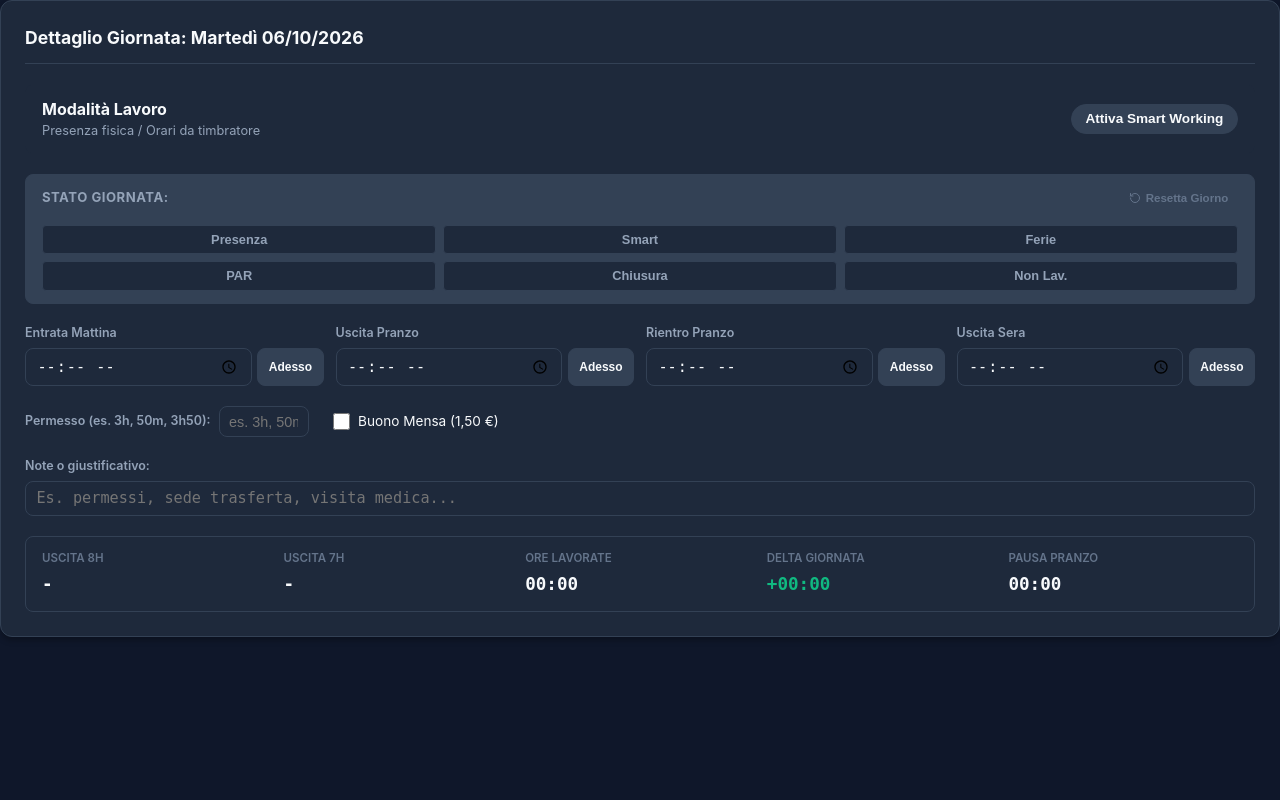
it: DayDetailCard Feature › entering morningIn dynamically calculates expected exits 8h and 7h
Type "09:00" into the time field with test id "input-morningIn".
click(138, 367); type("09:00")  # box [25, 348, 252, 386]
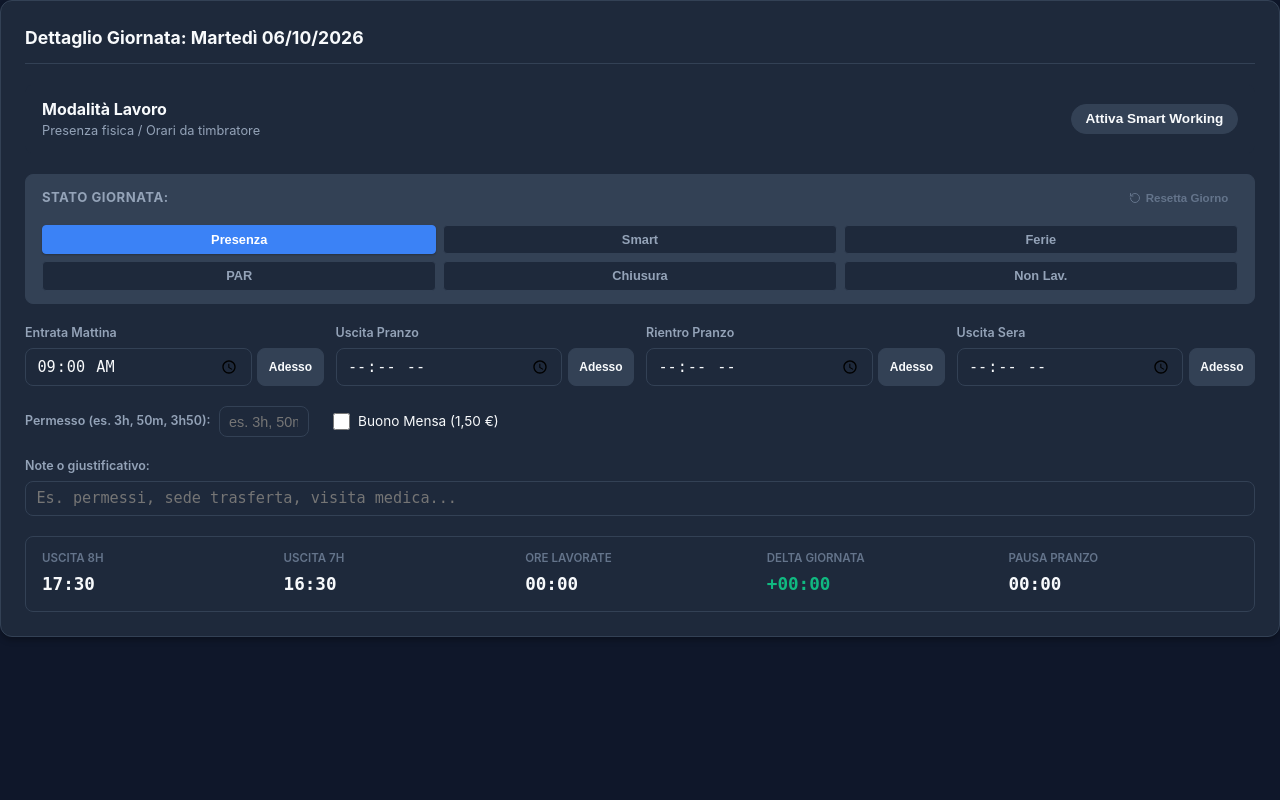
Expected: the text with test id "detail-expected-8h" reads "17:30", [42, 574, 95, 594]
Expected: the text with test id "detail-expected-7h" reads "16:30", [284, 574, 337, 594]
